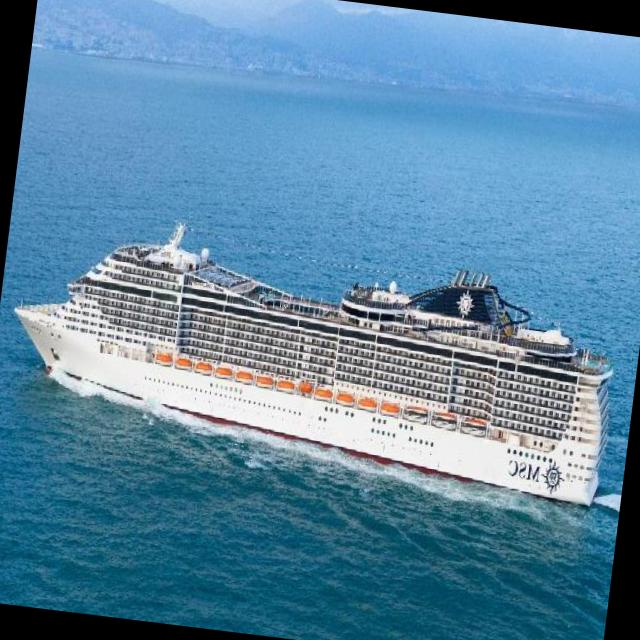Cruise: (15, 223, 613, 505)
